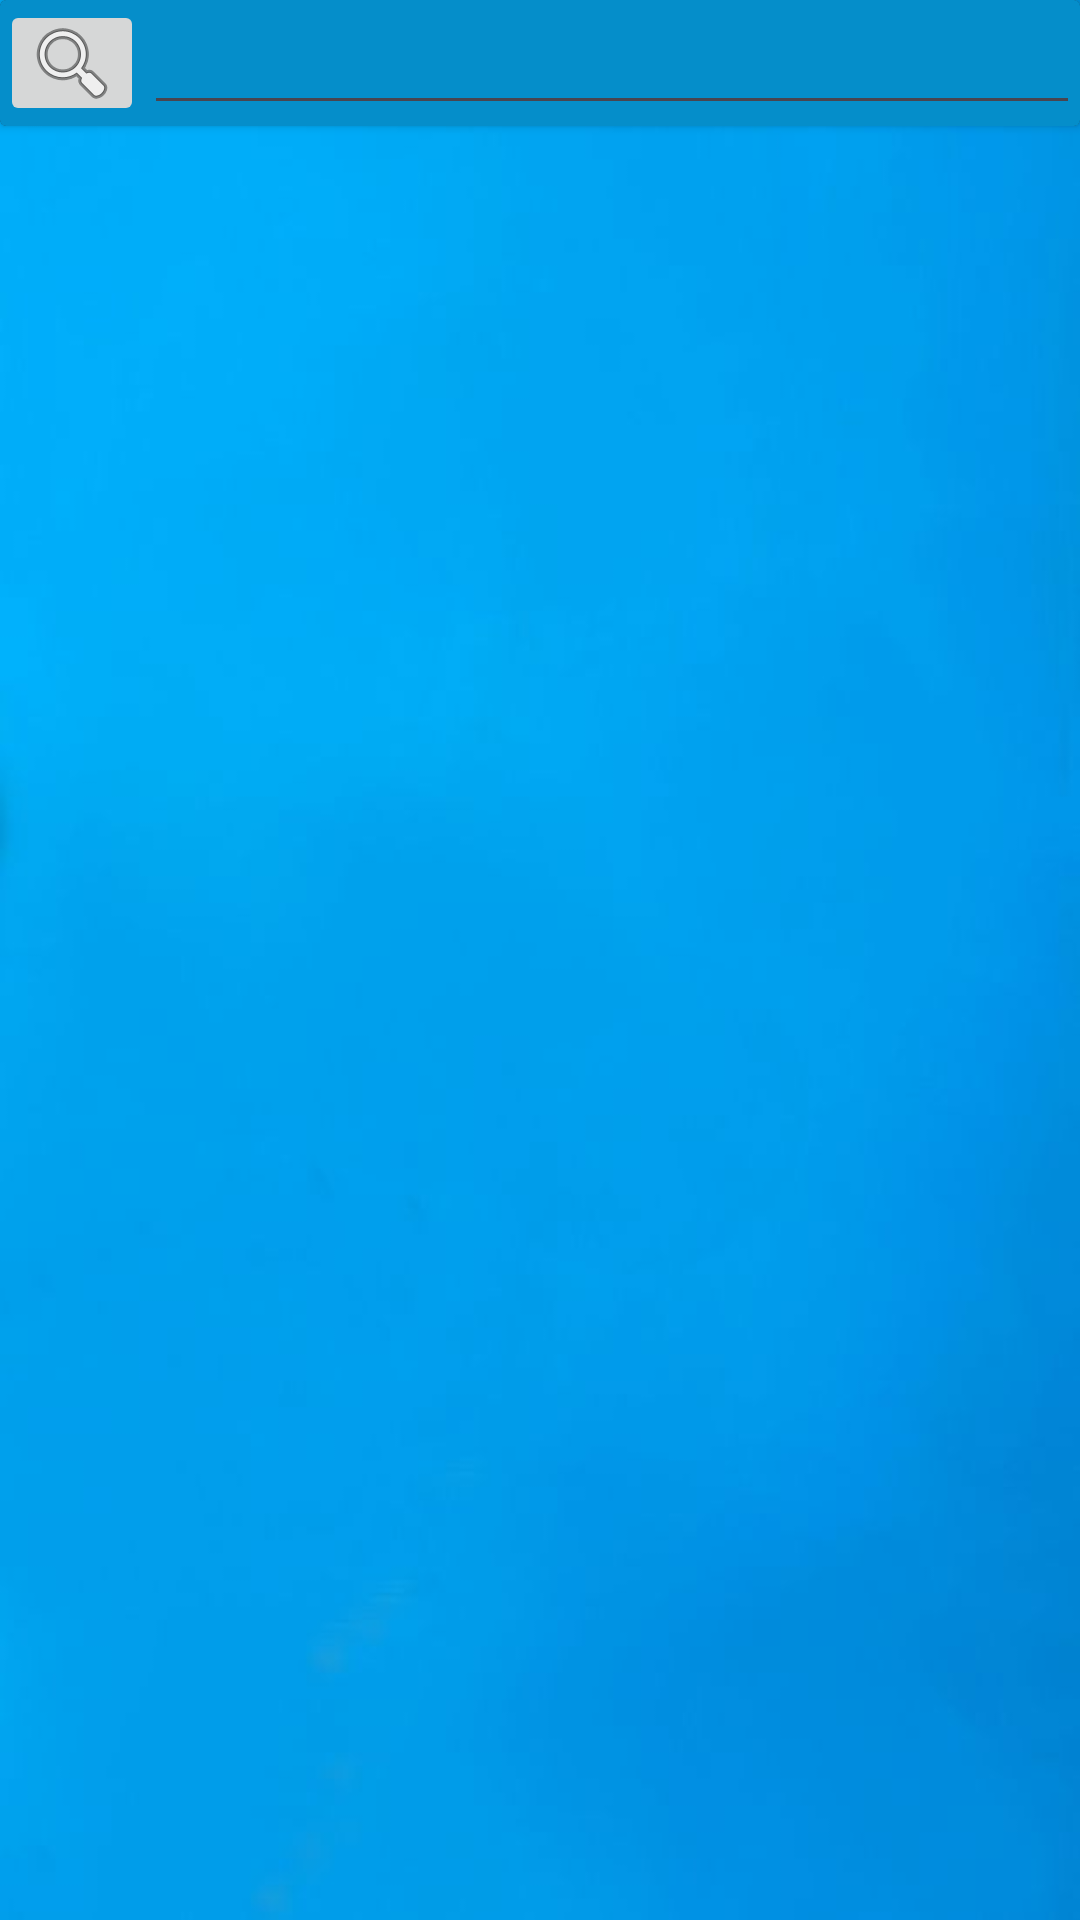

Point at icon controls on the screen. Image size 1080 x 1920, points as (x,y).
search: (66,54)
